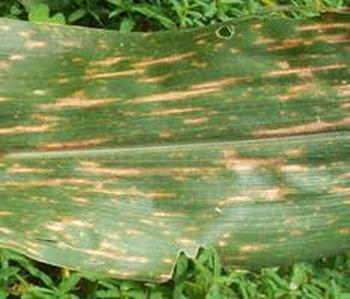Gray_Leaf_Spot: (0, 12, 349, 283)
